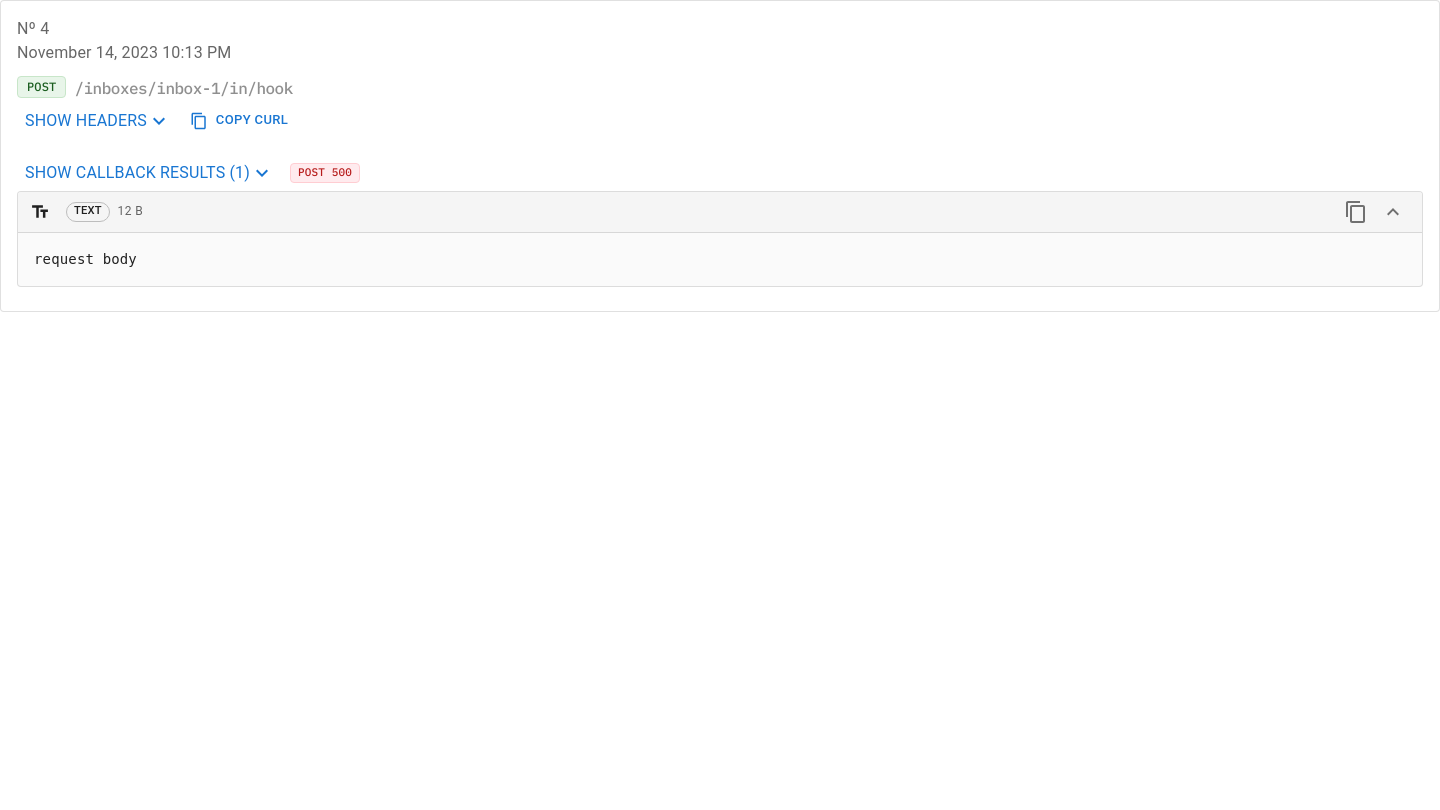
Test: shows the error when the retry fails and keeps the captured response
Click the button "Show callback results (1)": (149,173) [17,155,282,191]
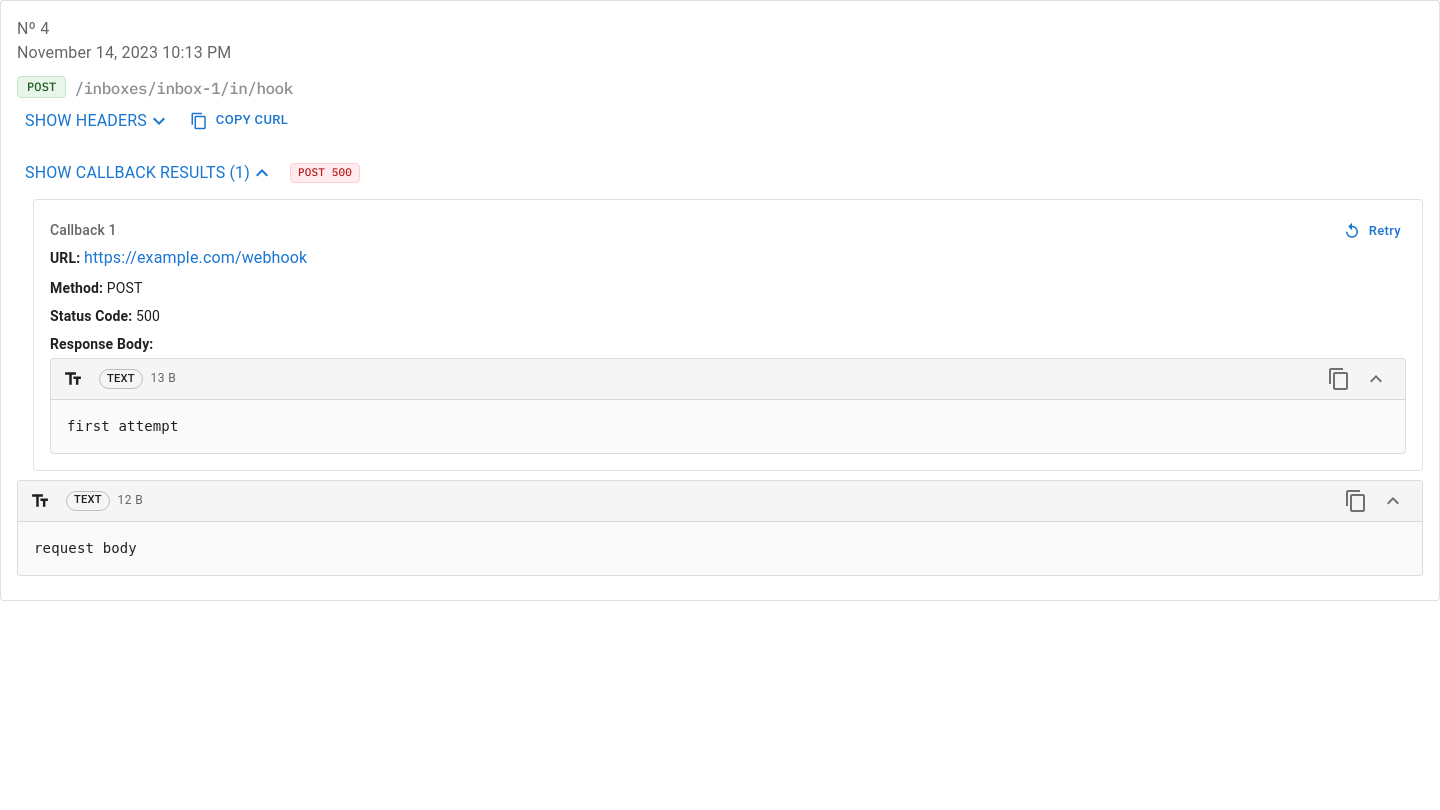
Click the button "Retry": (1373,231) [1340,216,1406,246]
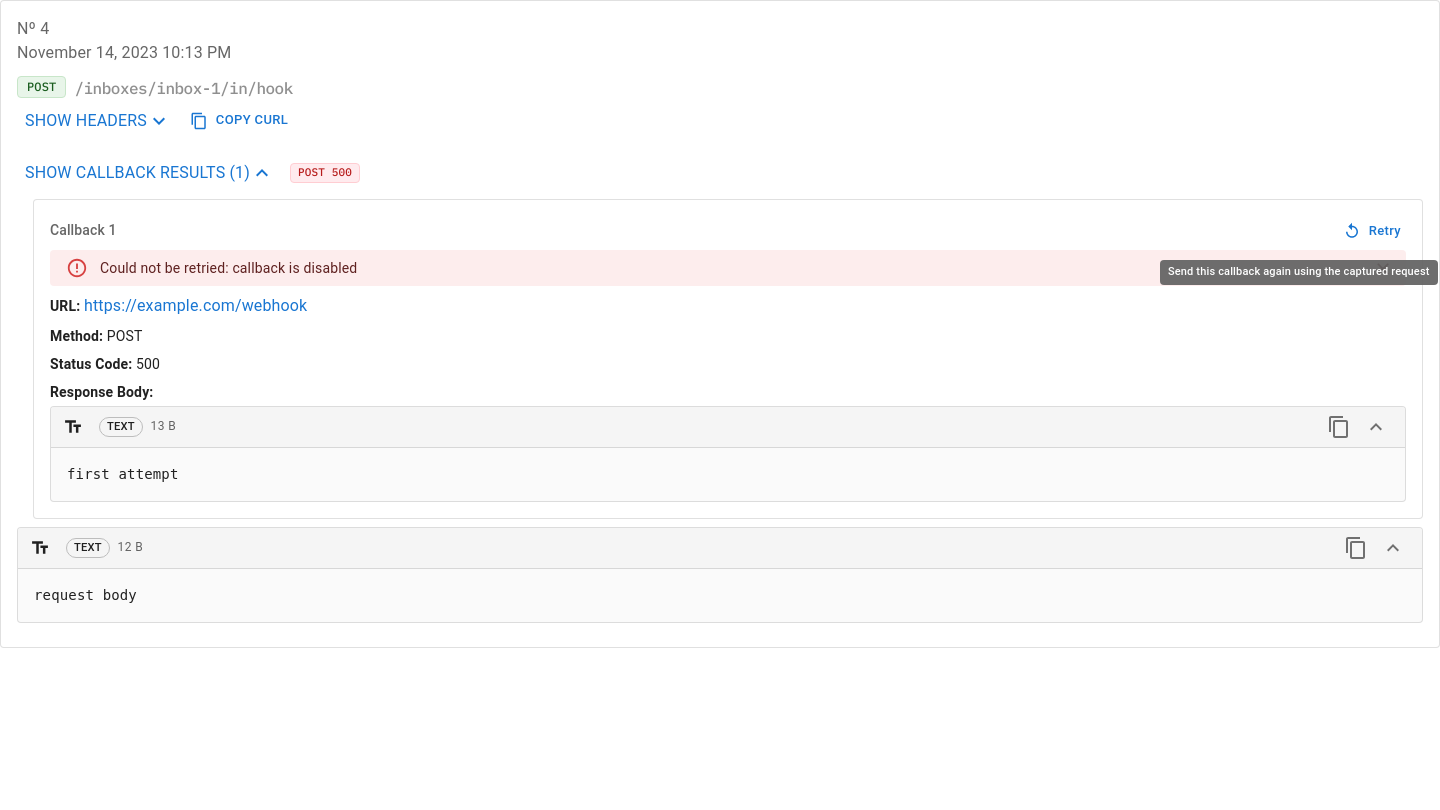
Expected: the text "first attempt" is shown, [67,466,178,482]
Expected: the text "Could not be retried: callback is disabled" is shown, [100,260,357,276]
